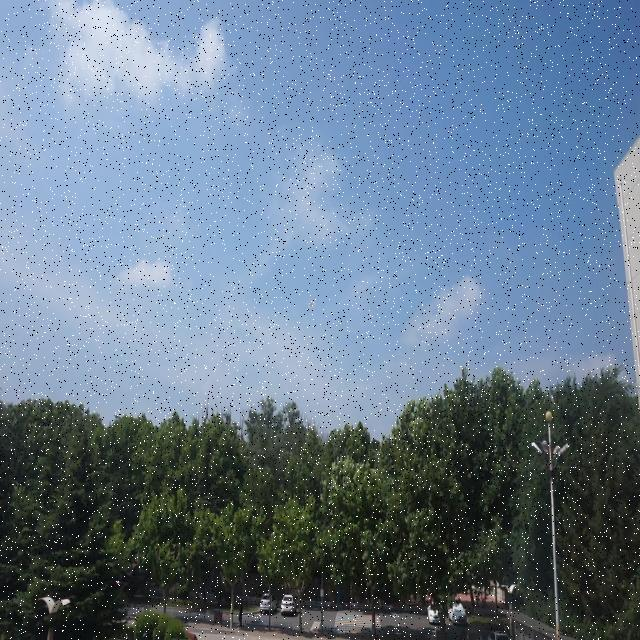UAV: (306, 301, 316, 309)
